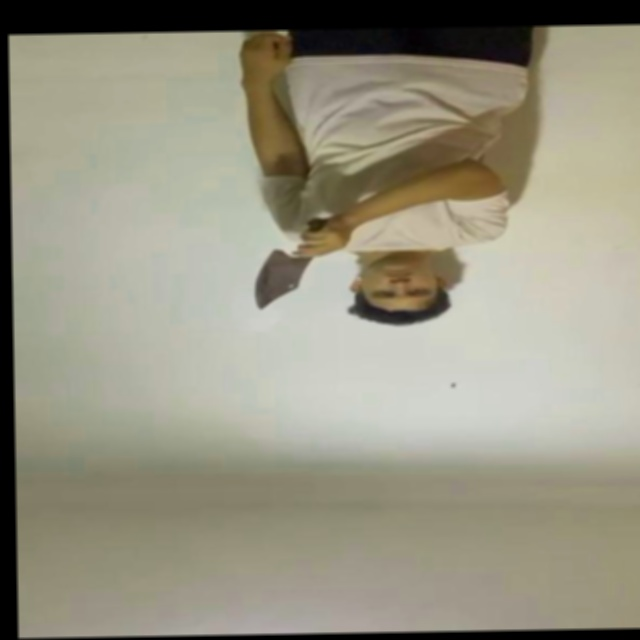Sharp-Object: (251, 254, 311, 313)
